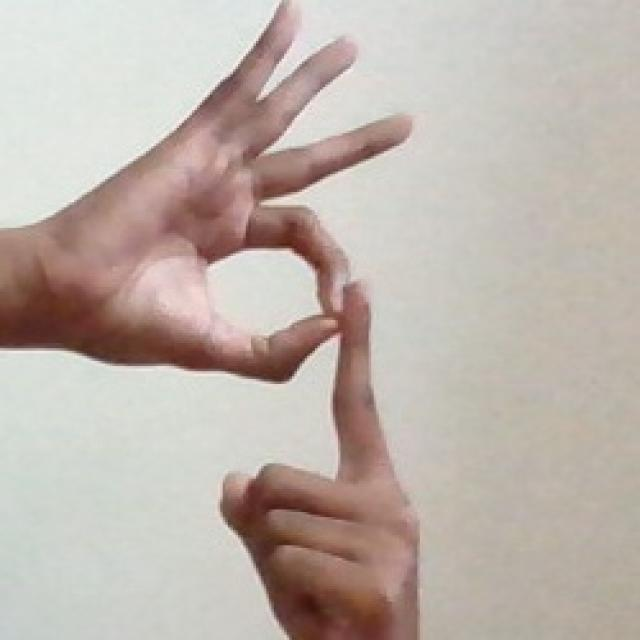Alphabet-P: (34, 0, 467, 640)
